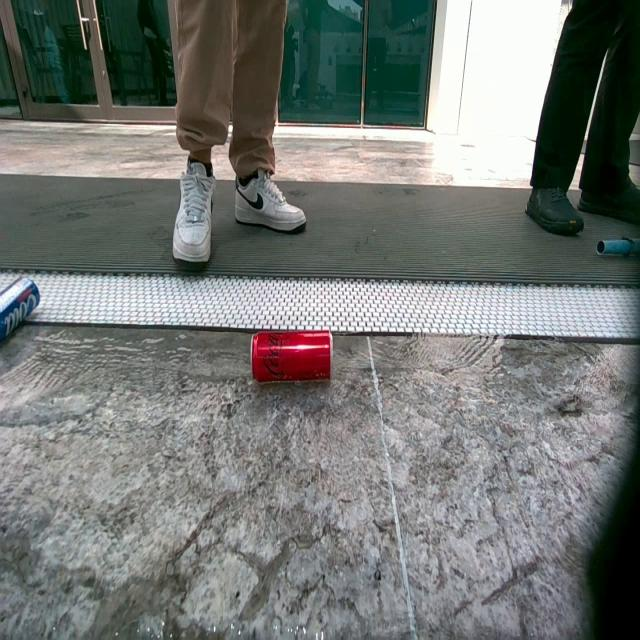Cans: (252, 334, 332, 386), (0, 269, 39, 349)
